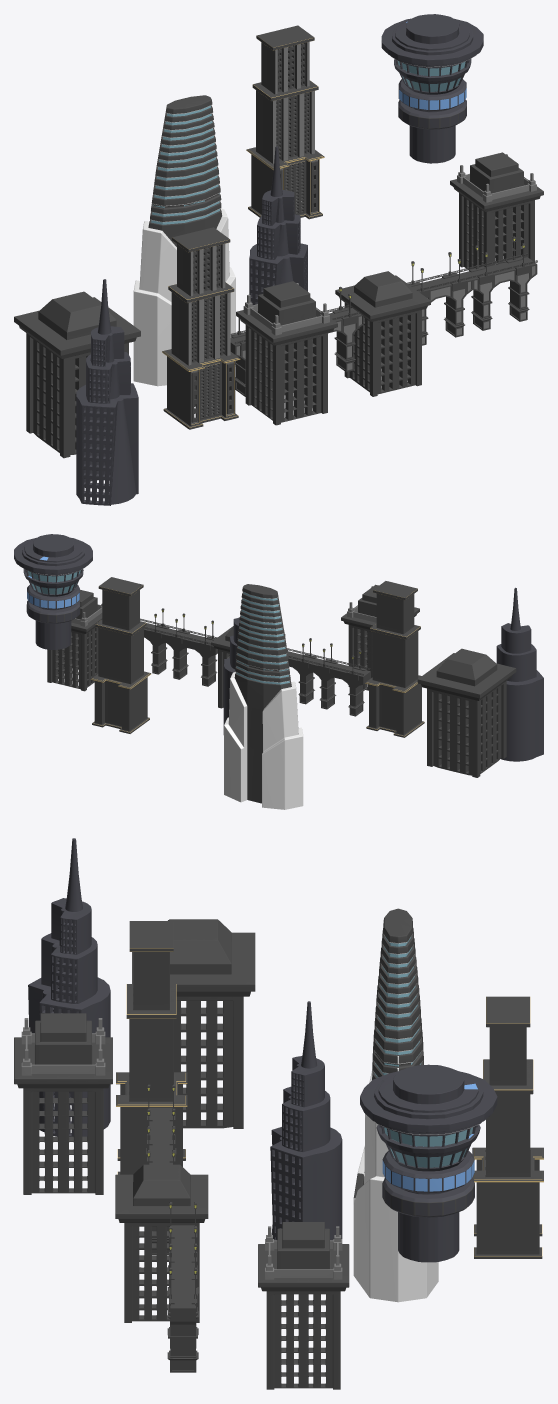
Rendered from BUILDINGS1.fbx.
3 renders of one model, top to bottom at view 1: azimuth 30°, elevation 25°; view 2: azimuth 150°, elevation 25°; view 3: azimuth 270°, elevation 25°, orthographic. The views are drawn at different scales.
Parts seen in each view (by area): view 1: building (×2), polySurface2 (×2), Building (×2), Building3, Building1, Building4, Building2, Bridge2, vitre (×2), Bridge, polySurface1 (×2); view 2: Building3, Building2, Building4, Building1, building (×2), Building (×2), polySurface2 (×2), Bridge, Bridge2, vitre (×2); view 3: building (×2), polySurface2 (×2), Building (×2), Building2, Building4, Building3, Building1, Bridge2, polySurface1 (×2), vitre (×2), Bridge.
Boxes of the visible parts, x1,y1,x2,y2 form: building (×2): (335,14,483,396); polySurface2 (×2): (236,152,543,425); Building (×2): (76,146,307,505); Building3: (133,95,235,386); Building1: (162,227,240,429); Building4: (246,25,324,219); Building2: (14,291,140,458); Bridge2: (407,236,537,345); vitre (×2): (151,61,465,224); Bridge: (230,286,363,396); polySurface1 (×2): (243,154,536,335); Building3: (224,584,303,809); Building2: (417,648,516,777); Building4: (90,577,151,733); Building1: (365,581,424,737); building (×2): (14,534,285,708); Building (×2): (223,587,543,761); polySurface2 (×2): (47,584,419,691); Bridge: (287,638,371,716); Bridge2: (140,608,217,686); vitre (×2): (28,570,289,684); building (×2): (115,1064,497,1322); polySurface2 (×2): (14,1013,349,1389); Building (×2): (28,838,342,1240); Building2: (132,919,255,1128); Building4: (472,996,543,1258); Building3: (353,908,438,1302); Building1: (116,921,187,1174); Bridge2: (167,1202,198,1372); polySurface1 (×2): (21,1018,342,1279); vitre (×2): (374,937,473,1167); Bridge: (146,1084,176,1254).
Bounding box in the file's own units: 66.83 × 32.24 × 43.
